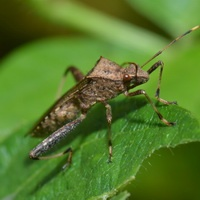insect: (29, 25, 199, 161)
